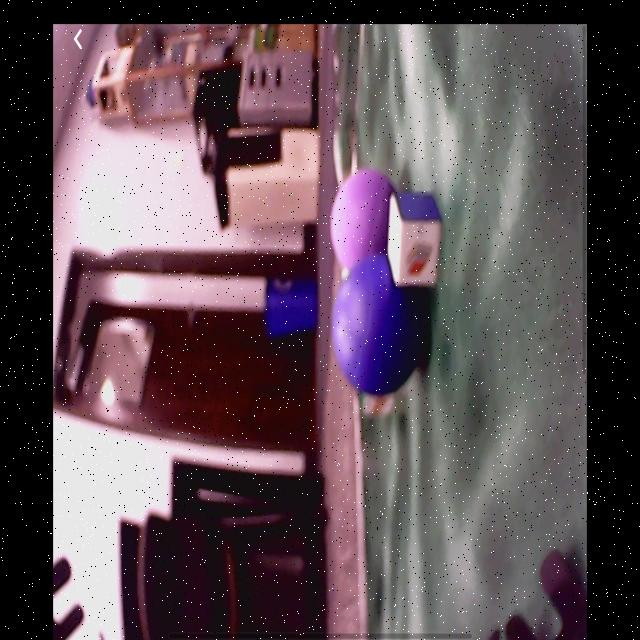ball: (330, 259, 424, 395), (332, 172, 396, 265)
